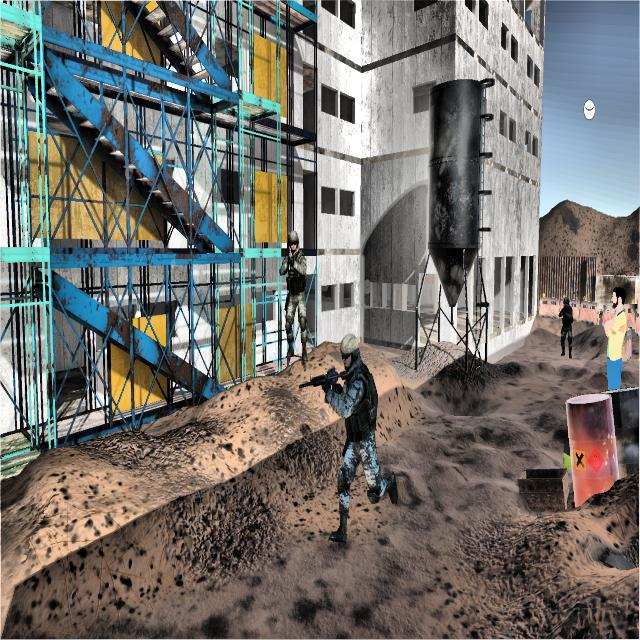bad: (323, 327, 399, 545), (275, 212, 315, 374), (553, 282, 578, 366)
good: (592, 273, 630, 405)
